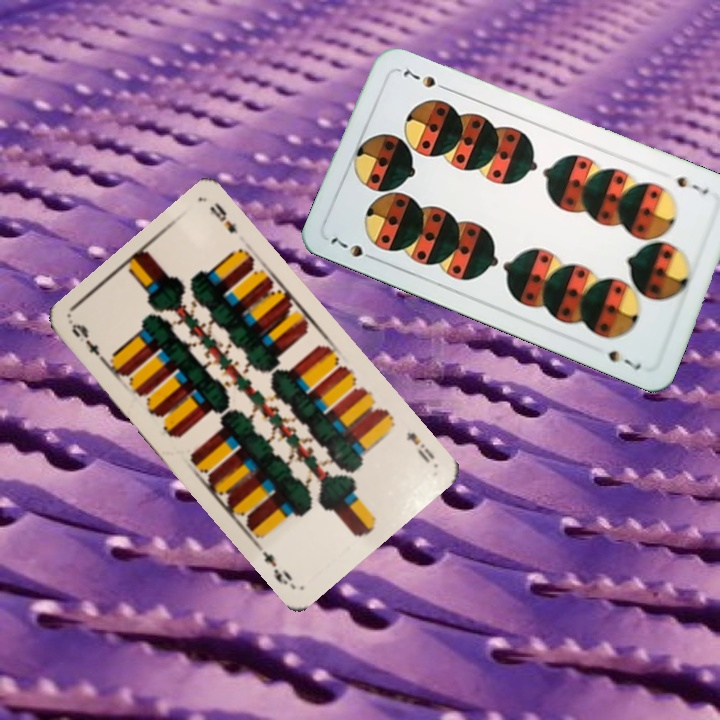E9: (67, 319, 115, 368), (402, 427, 437, 466)
S7: (326, 233, 381, 264), (672, 172, 712, 198)
